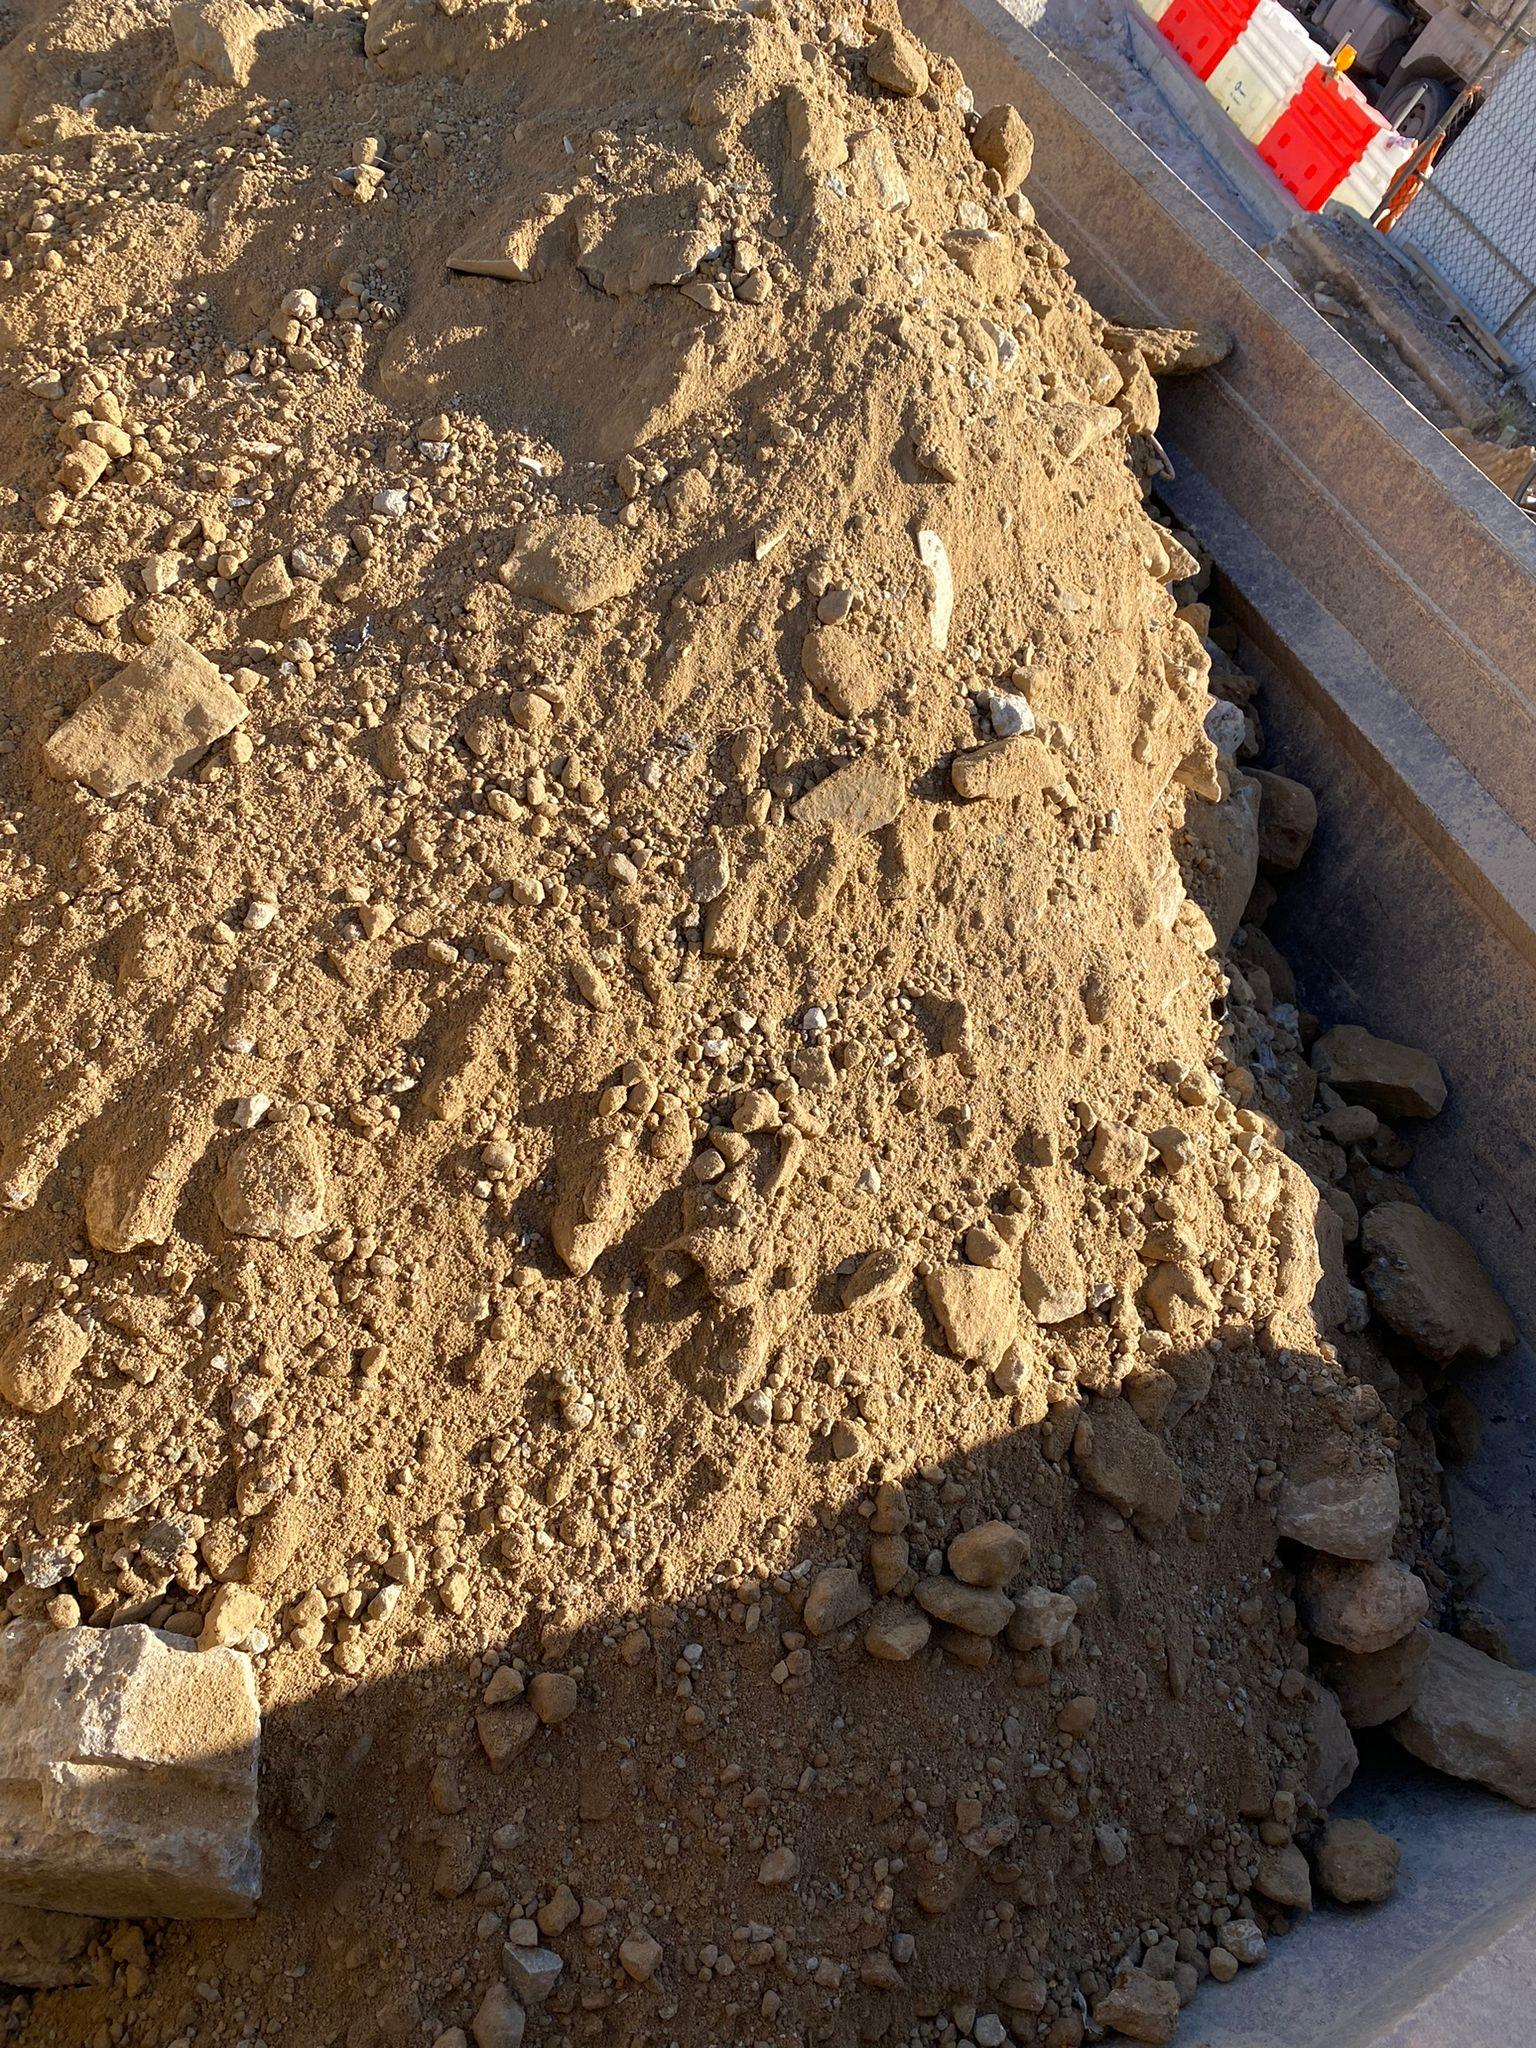dry: (0, 0, 1370, 2037)
